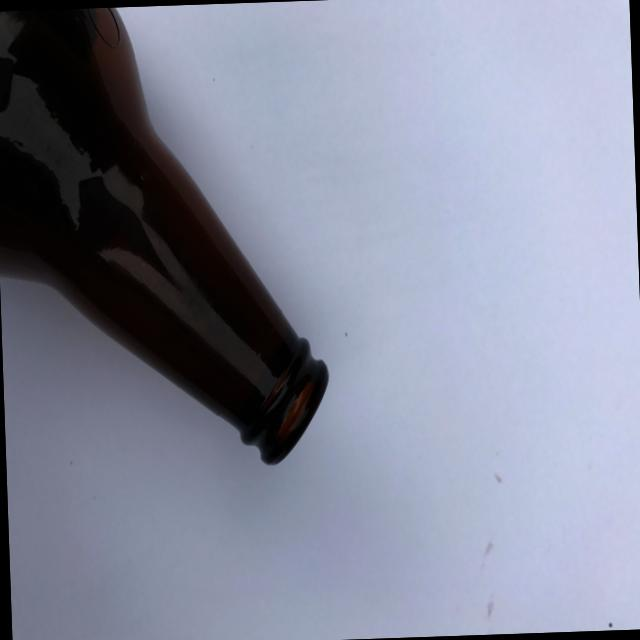Glass: (0, 0, 349, 511)
